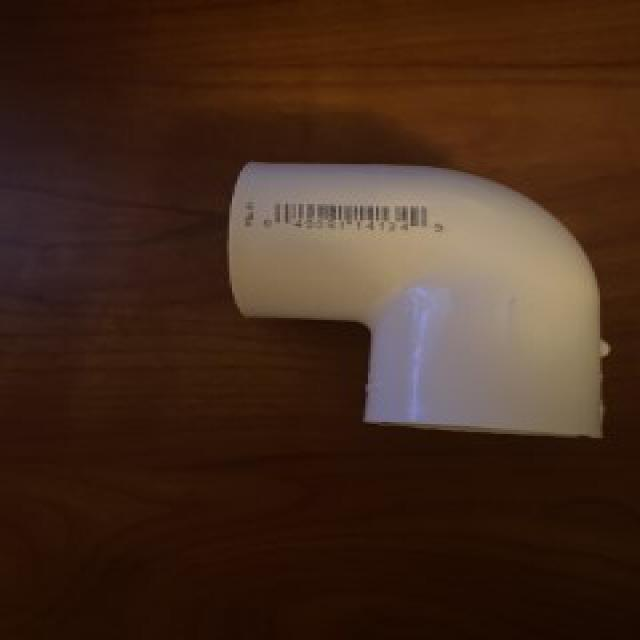L Joint: (225, 161, 610, 441)
